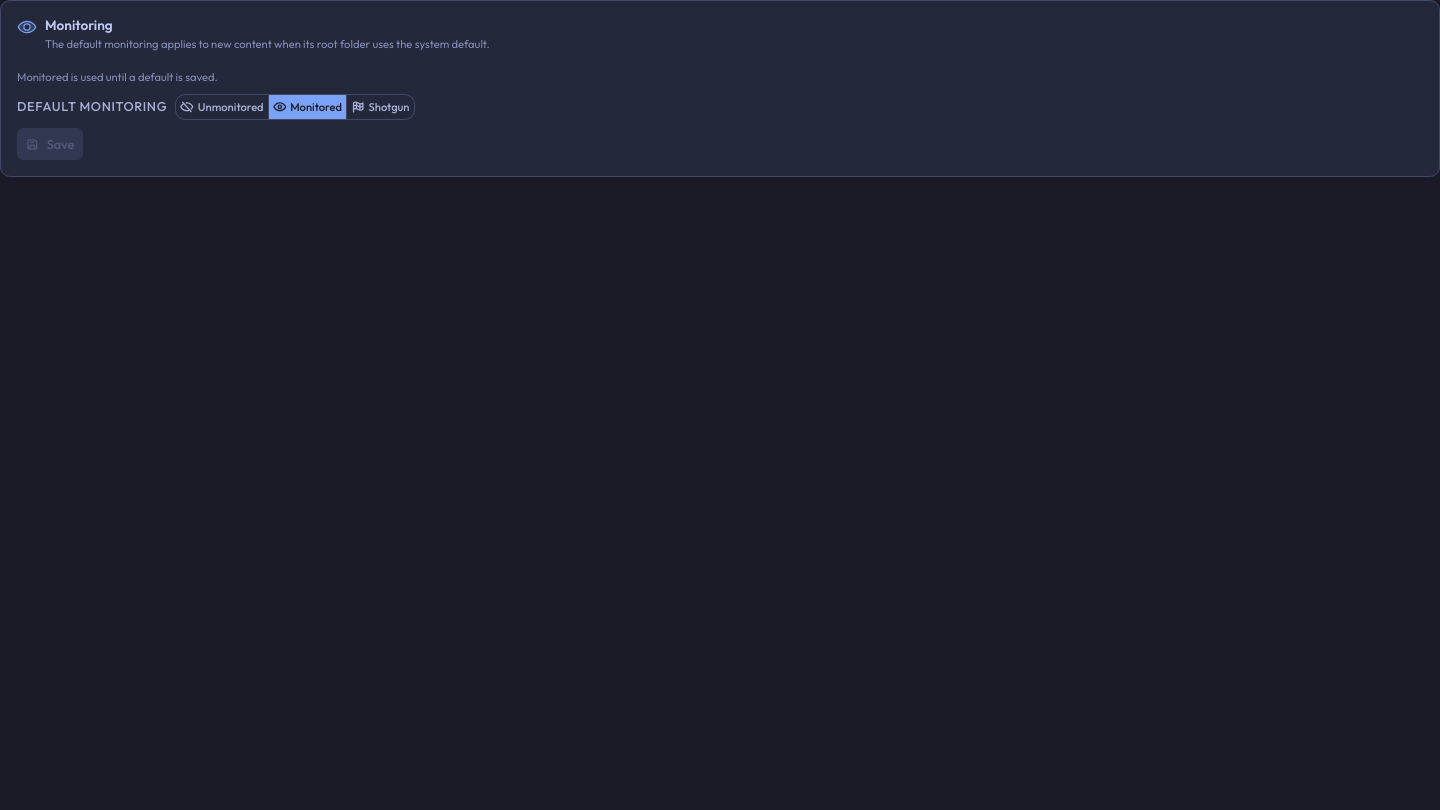
Test: MonitoringDefaultPanel › Save_KeepsANewerModeChangeDirty_WhenThePendingSaveSucceeds
What coordinates should you click on to do the following:
click the radio button with aria-label "Unmonitored:"
I would click on:
 (222, 107)
Its box is [176, 95, 268, 119].
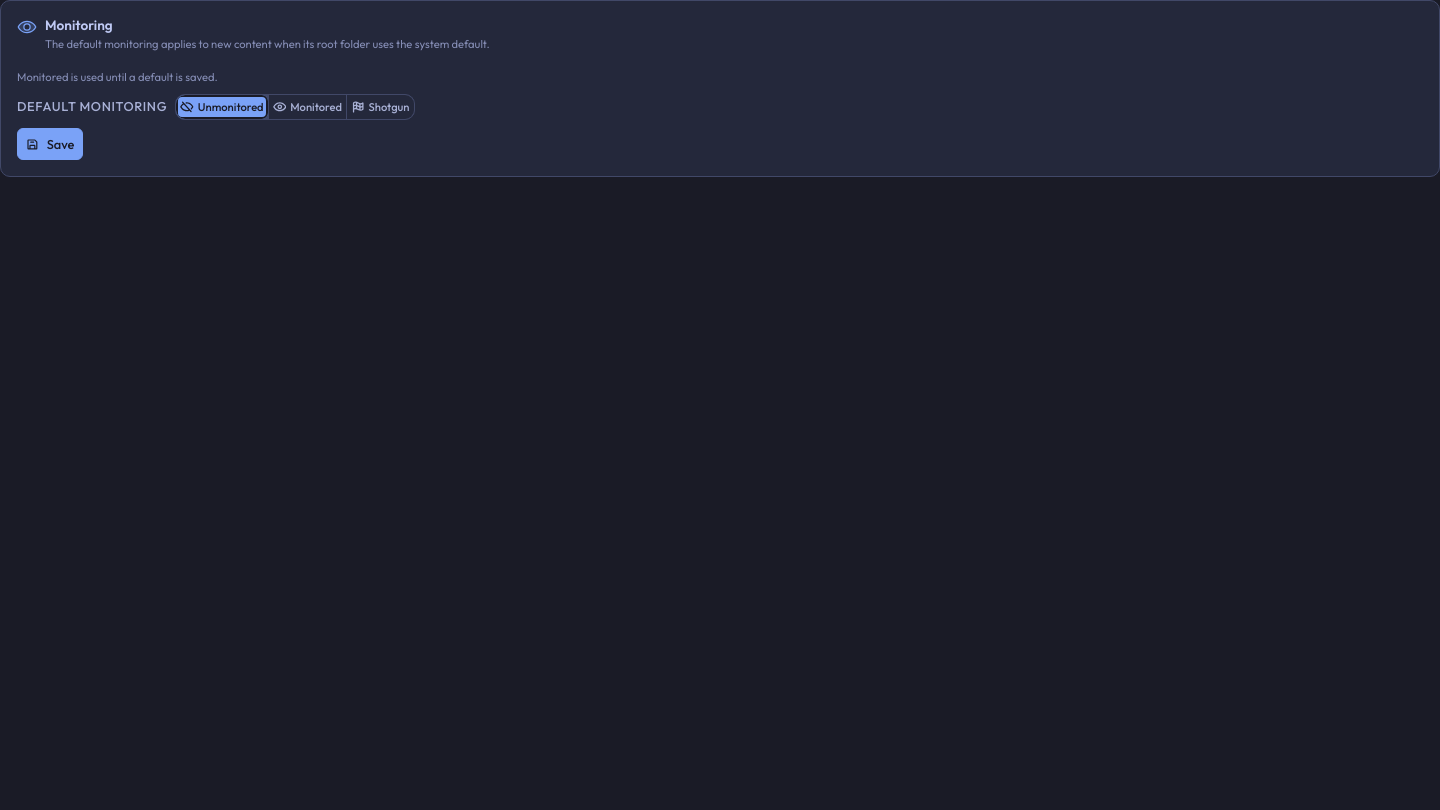
What coordinates should you click on to do the following:
click the button "Save"
I would click on:
 (50, 144)
Its box is [17, 128, 83, 160].
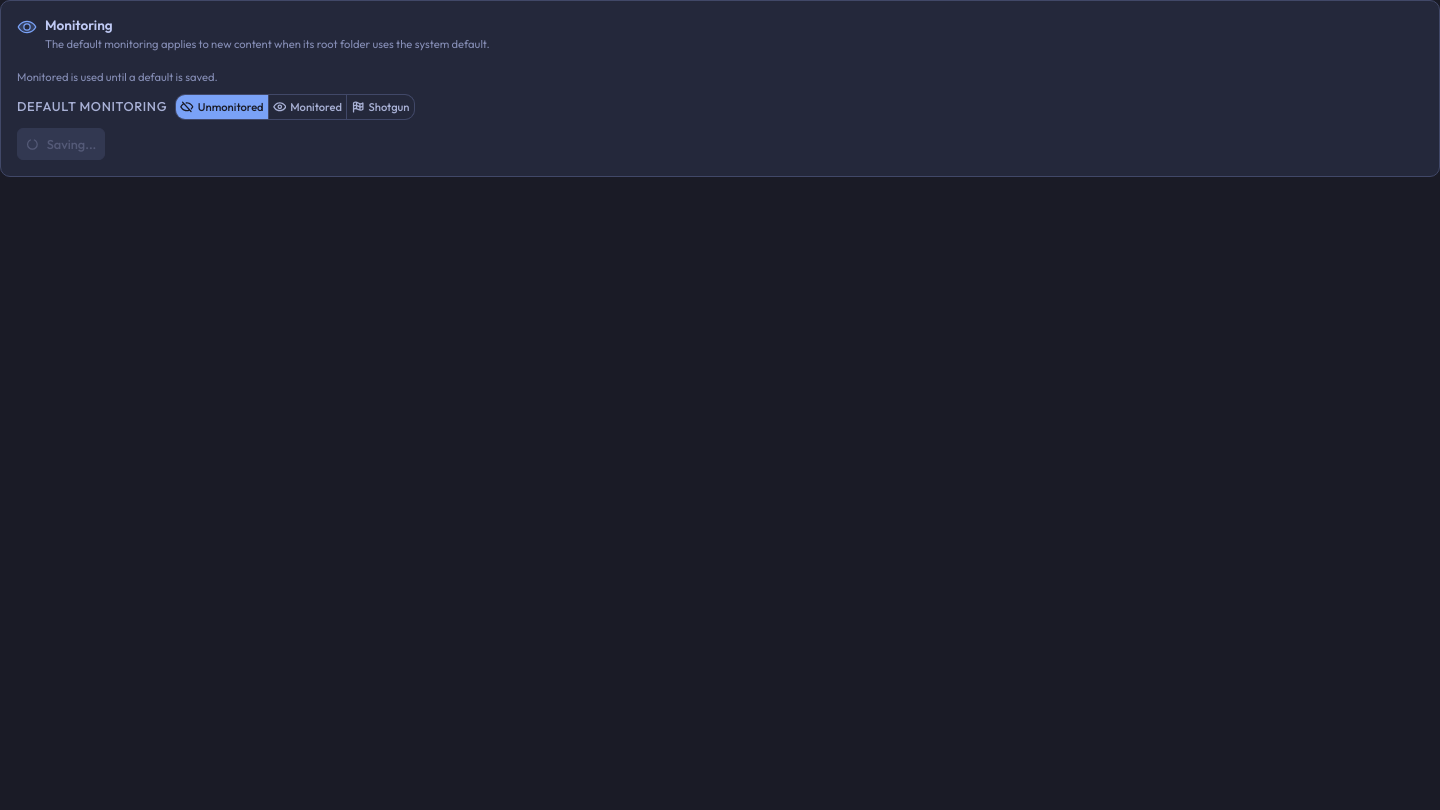
What coordinates should you click on to do the following:
click the radio button with aria-label "Shotgun:"
I would click on:
 (380, 107)
Its box is [347, 95, 414, 119].
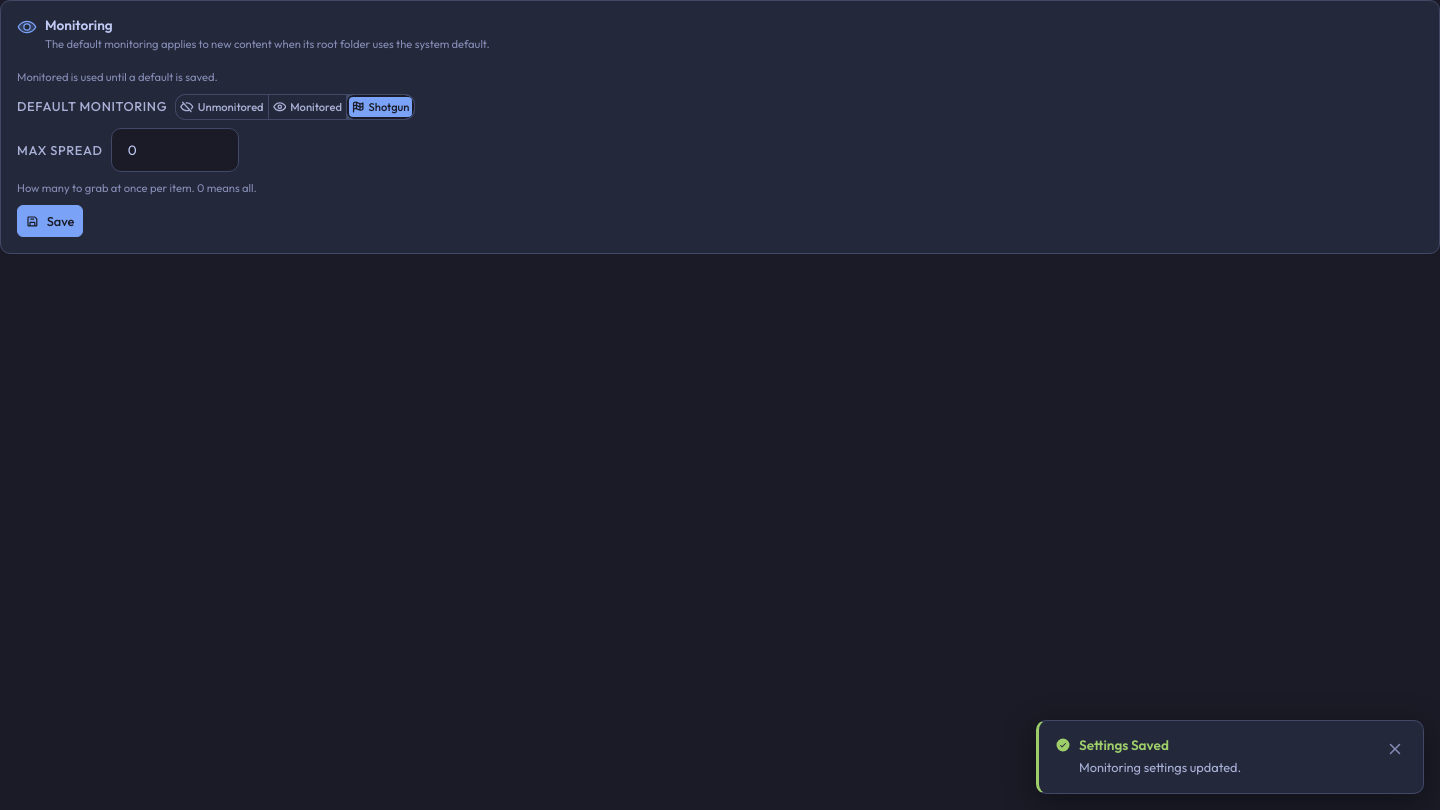
Expected: the button "Save" is enabled, [17, 205, 83, 237]
